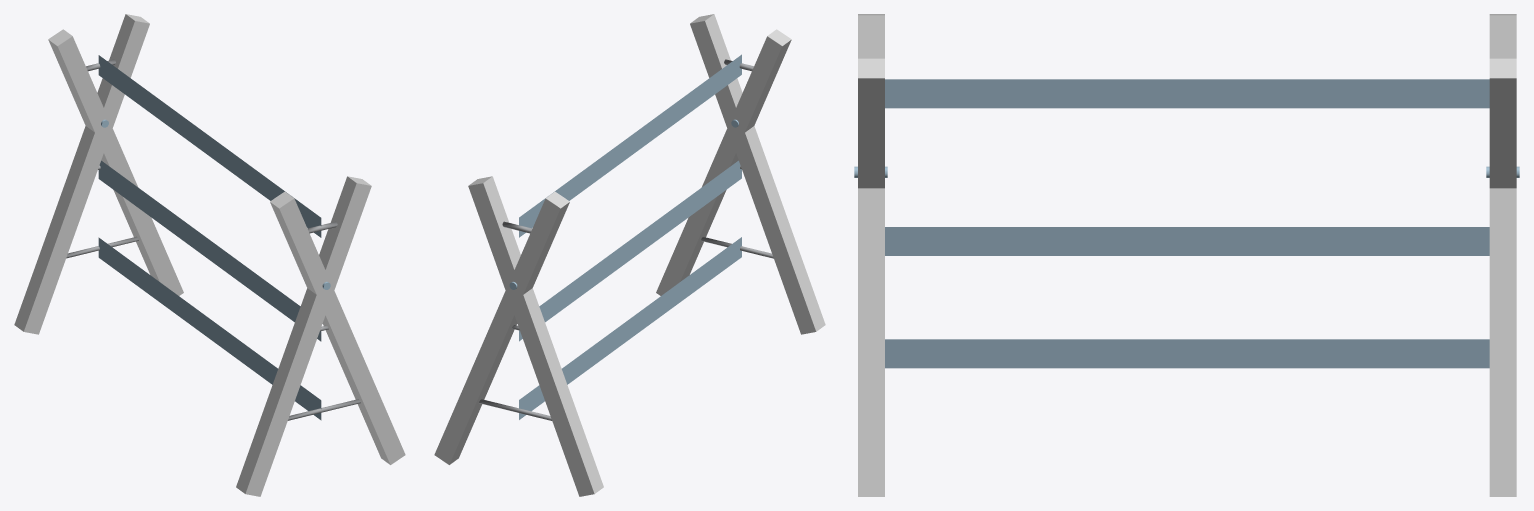
The model's file is whiteBlocker.glb.
3 views of the same model, side by side, from view 1: azimuth 30°, elevation 25°; view 2: azimuth 150°, elevation 25°; view 3: azimuth 270°, elevation 25° (orthographic). The views are drawn at different scales.
Visible parts, largest first — view 1: whiteBlocker; view 2: whiteBlocker; view 3: whiteBlocker.
Part boxes in pixels (<box>): whiteBlocker: <box>14,14,405,496</box>; whiteBlocker: <box>434,14,825,496</box>; whiteBlocker: <box>854,14,1519,496</box>.
Size of the model in its own units: 0.9531 by 1.65 by 2.4.
